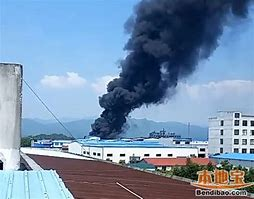smoke: (92, 1, 252, 135)
